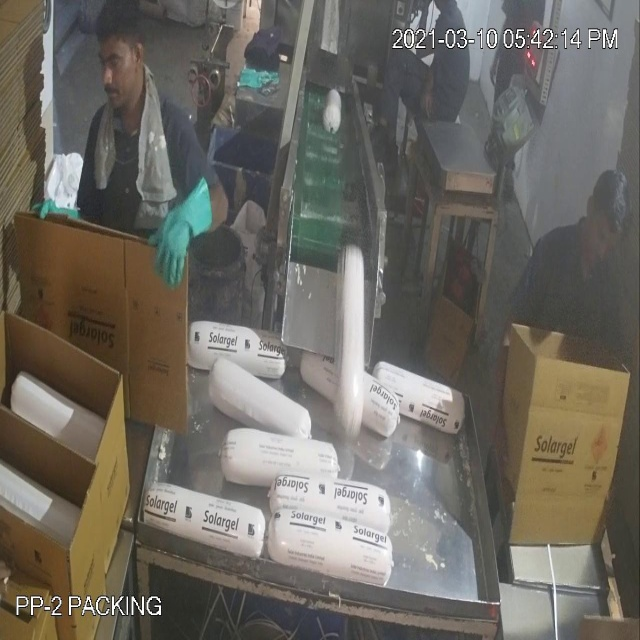Guantes: (148, 174, 234, 292)
Sin_guantes: (481, 292, 534, 490)
